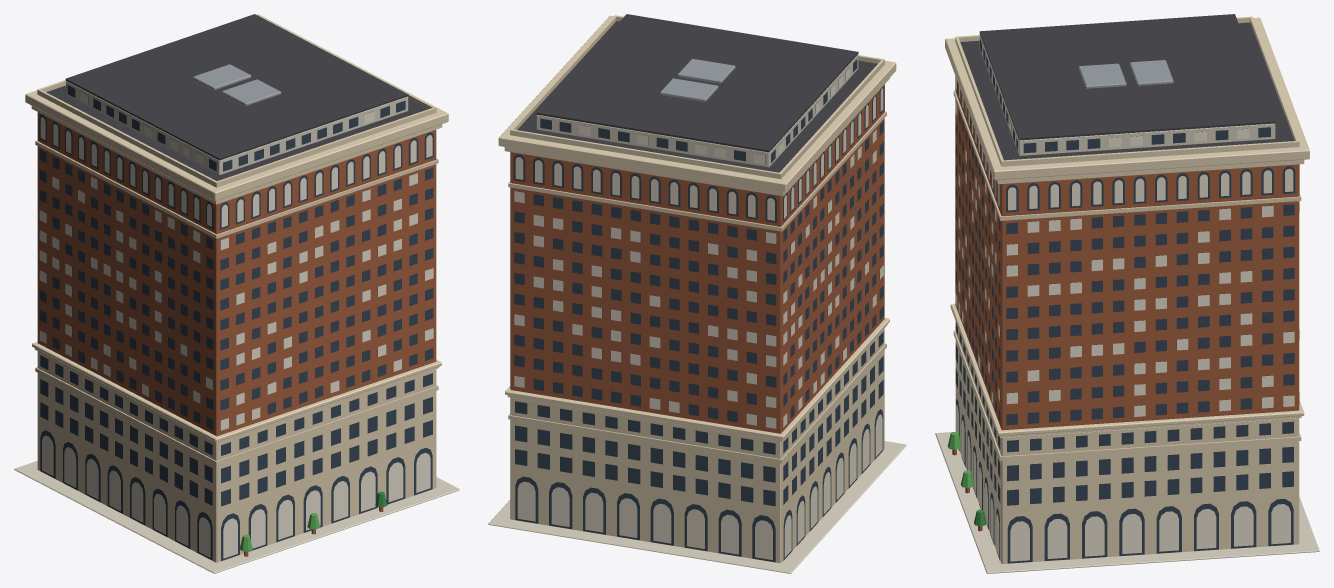
The model's file is 500-california-street.glb.
The picture shows the model from 3 angles, left to right: view 1: azimuth 30°, elevation 25°; view 2: azimuth 150°, elevation 25°; view 3: azimuth 270°, elevation 25°; orthographic projection. The views are drawn at different scales.
Visible parts, largest first — view 1: 500-california-street_body, 500-california-street_night_glow; view 2: 500-california-street_body, 500-california-street_night_glow; view 3: 500-california-street_body, 500-california-street_night_glow.
Boxes of the visible parts, <box> form: 500-california-street_body: <box>14,14,459,573</box>; 500-california-street_night_glow: <box>39,92,433,558</box>; 500-california-street_body: <box>488,14,906,573</box>; 500-california-street_night_glow: <box>514,67,883,560</box>; 500-california-street_body: <box>935,14,1319,573</box>; 500-california-street_night_glow: <box>955,77,1299,561</box>.
Bounding box in the file's own units: 54.09 × 65.3 × 54.18.
